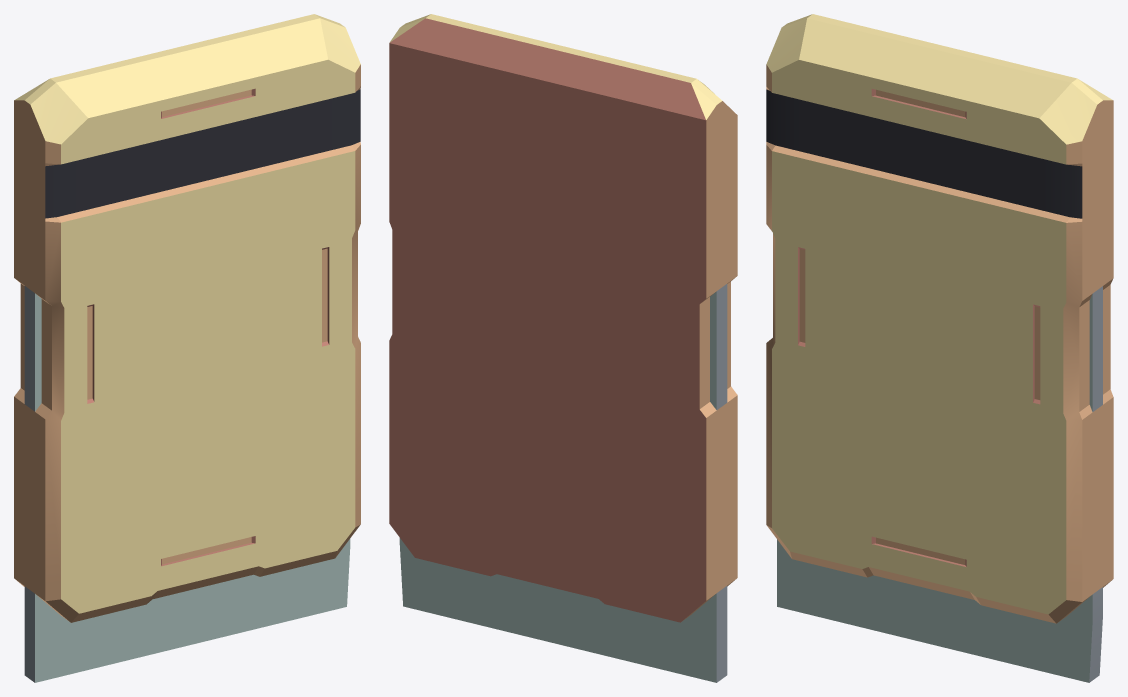
Rendered from Wall tile.fbx.
3 views of the same model, side by side, from view 1: azimuth 30°, elevation 25°; view 2: azimuth 150°, elevation 25°; view 3: azimuth 330°, elevation 25° (orthographic).
Visible parts, largest first — view 1: Wall tile; view 2: Wall tile; view 3: Wall tile.
Boxes of the visible parts, x1,y1,x2,y2 form: Wall tile: [14, 14, 360, 682]; Wall tile: [389, 14, 737, 682]; Wall tile: [766, 14, 1113, 682].
Size of the model in its own units: 5 by 8.95 by 1.
